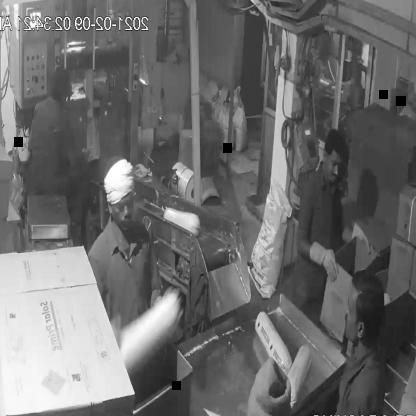glove: (303, 236, 344, 286), (346, 221, 376, 255)
